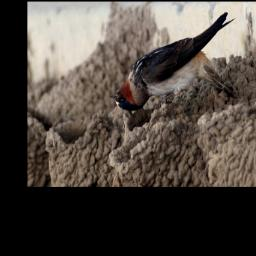Swallow: (107, 11, 239, 112)
